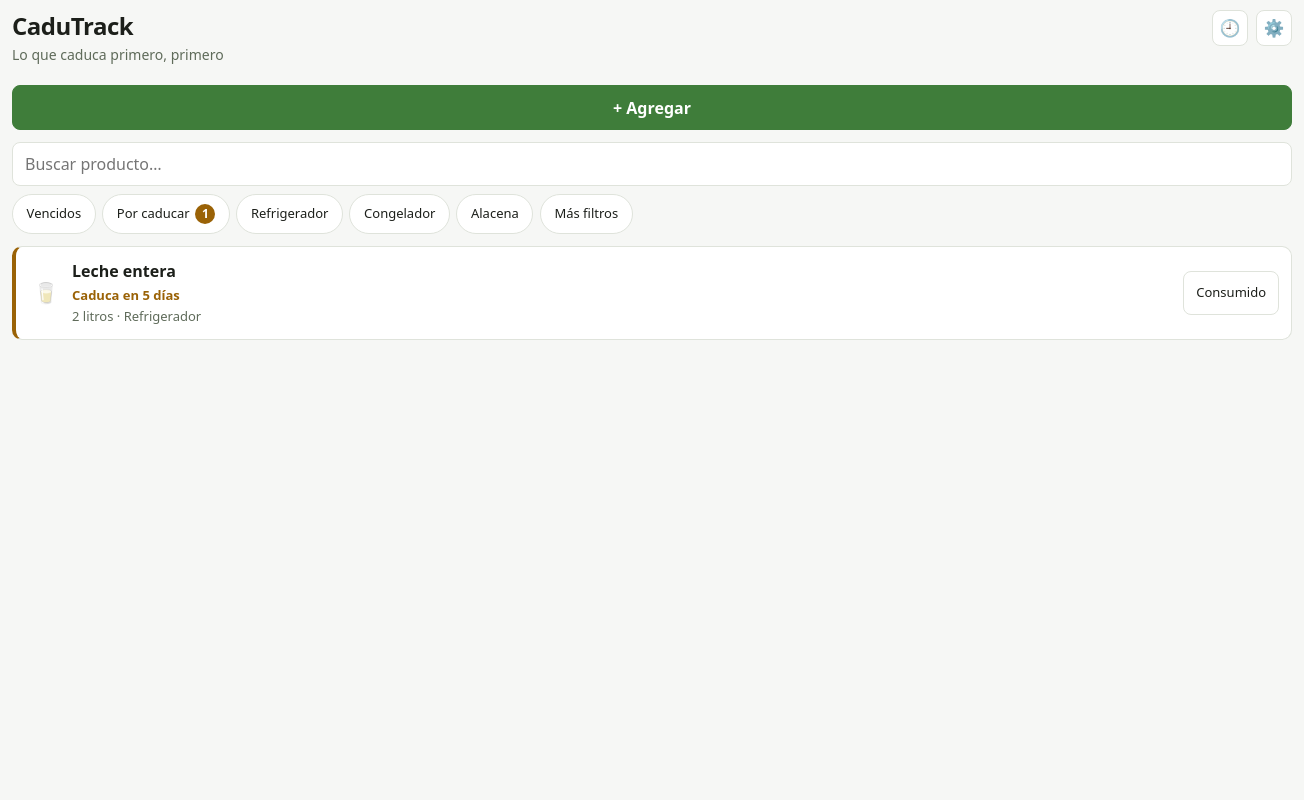
Scenario: consuming a product › offers to undo it — see #143
Click the button with aria-label "Marcar Leche entera como consumido": (1231, 293) [1183, 271, 1279, 315]
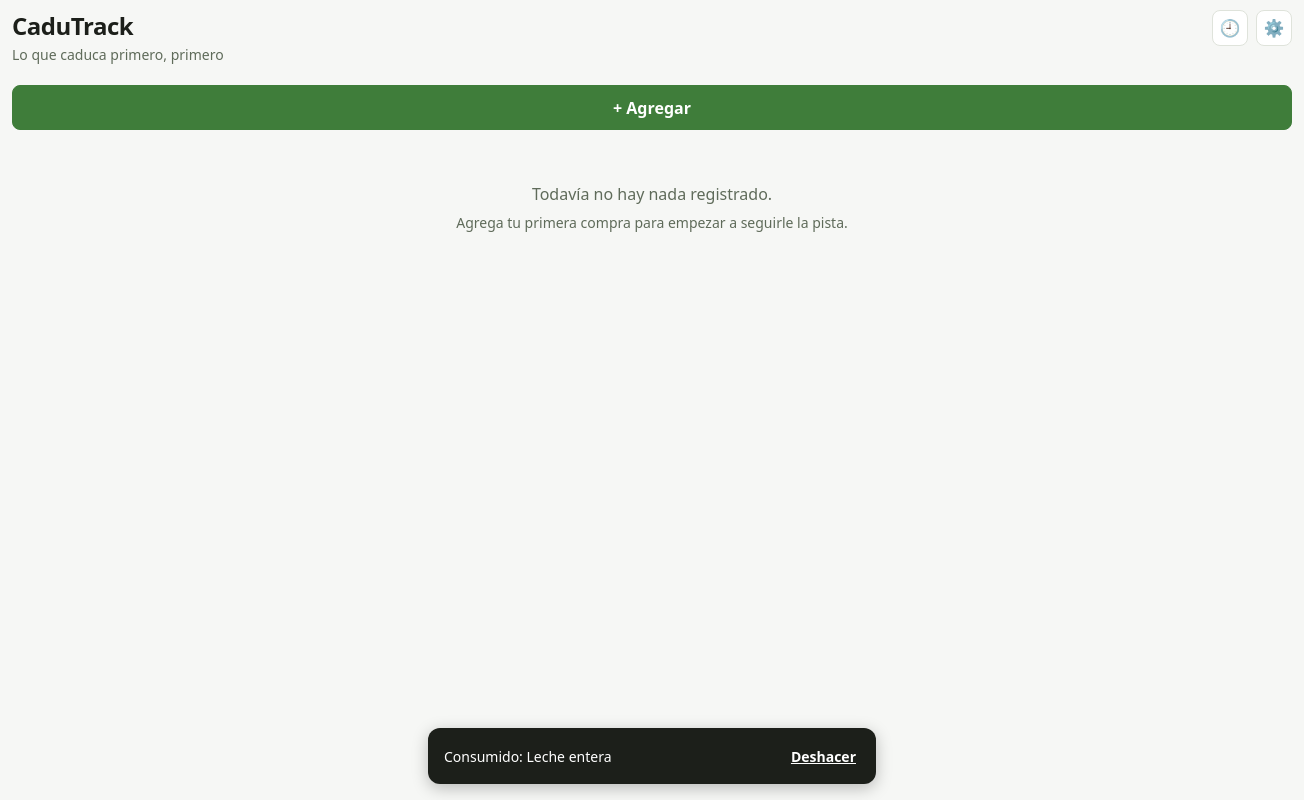
Check: the text "Consumido: Leche entera" is shown, box [444, 746, 612, 766]
Click the button "Deshacer": (823, 756) [779, 734, 868, 778]
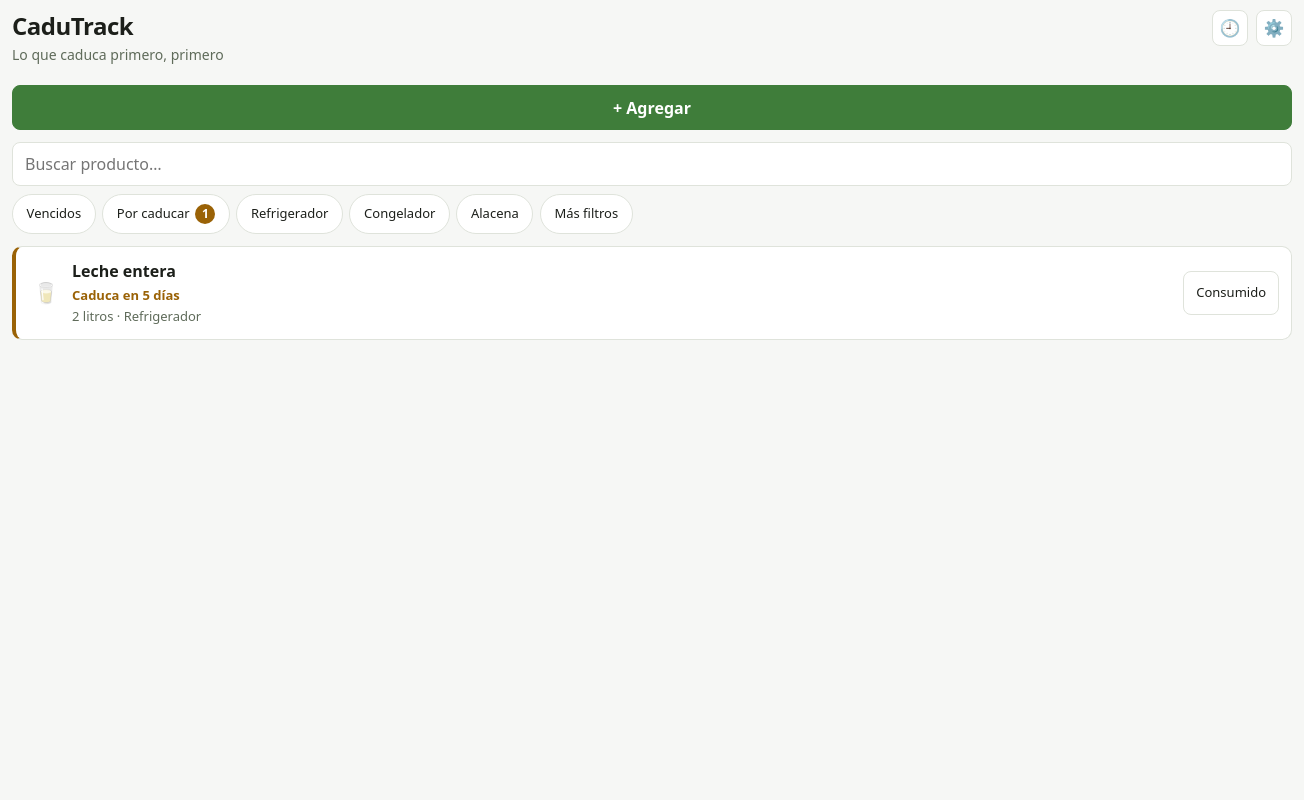
Check: the text "Consumido: Leche entera" is gone
